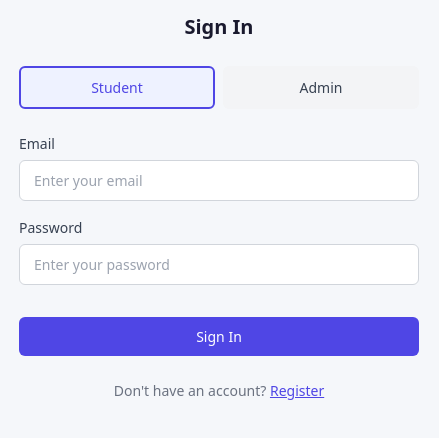
Login › shows error message when auth fails
Step 1. Type "bad@example.com" into the field labelled "Email" → {"x": 219, "y": 180}, box [19,160,419,201]
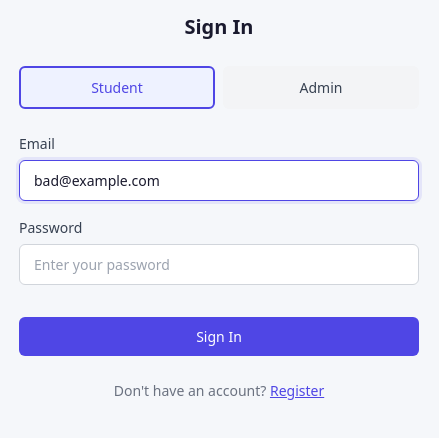
Step 2. Type "wrong" into the password field labelled "Password" → {"x": 219, "y": 264}, box [19,244,419,285]
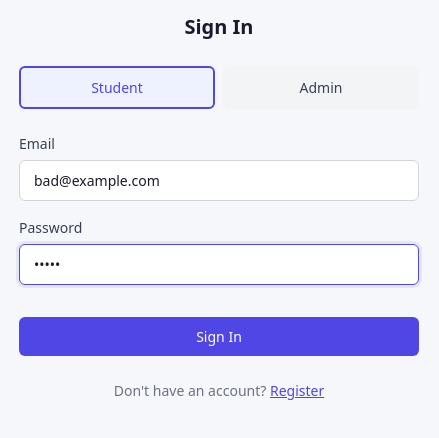
Step 3. Click the button "Sign In" → {"x": 219, "y": 336}, box [19,317,419,356]
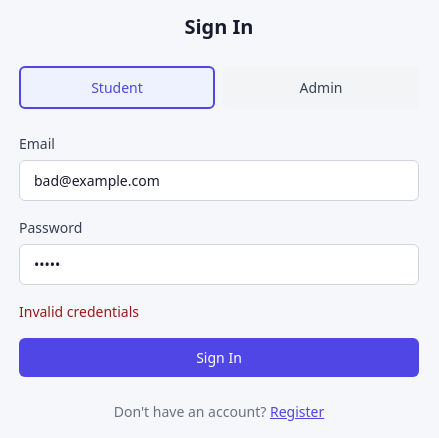
Check: the text "Invalid credentials" is shown, box [19,302,139,321]
